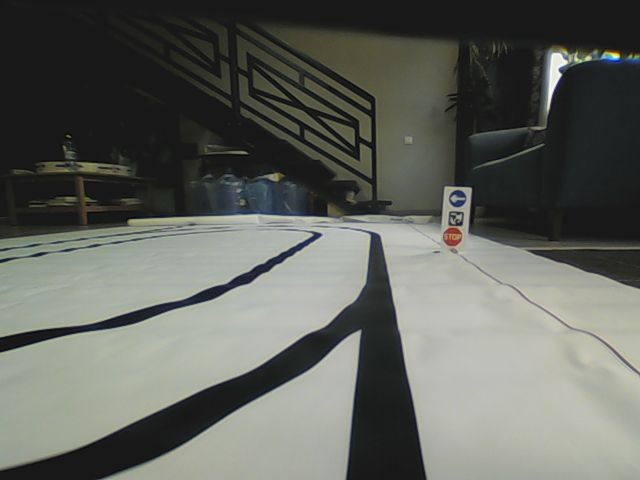Stop: (442, 226, 462, 246)
